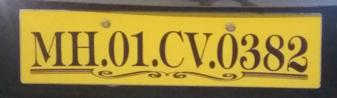0: (216, 33, 239, 74), (106, 29, 130, 67)
1: (129, 29, 150, 68)
2: (286, 35, 313, 73)
8: (263, 28, 287, 73)
C: (156, 26, 187, 70)
H: (69, 26, 102, 72), (240, 33, 263, 71)
M: (25, 25, 67, 71)
V: (184, 27, 213, 67)
